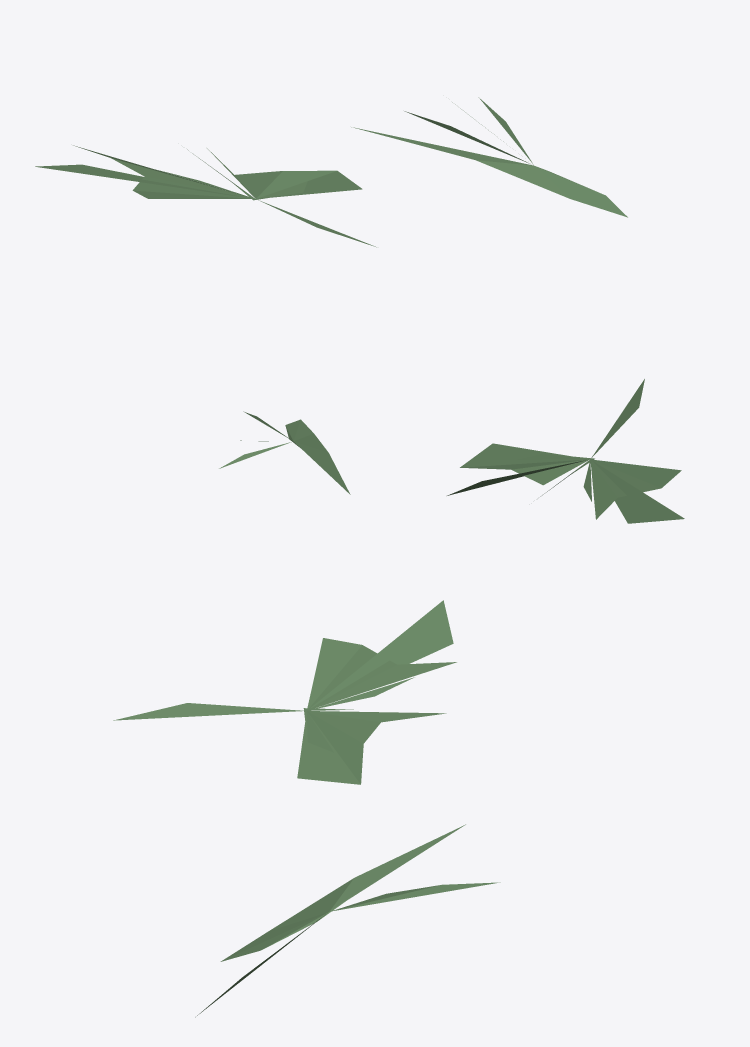
Rendered from c_1667_17816_forest.glb.
3 views of the same model, one above another, from view 1: azimuth 30°, elevation 25°; view 2: azimuth 150°, elevation 25°; view 3: azimuth 270°, elevation 25° (orthographic). The views are drawn at different scales.
Parts seen in each view (by area): view 1: geometry_0; view 2: geometry_0; view 3: geometry_0.
Boxes of the visible parts, box(x1,y1,x2,y2) form: geometry_0: box(35, 97, 627, 247); geometry_0: box(219, 379, 684, 523); geometry_0: box(113, 600, 500, 1017).
Size of the model in its own units: 239 by 60.84 by 237.
